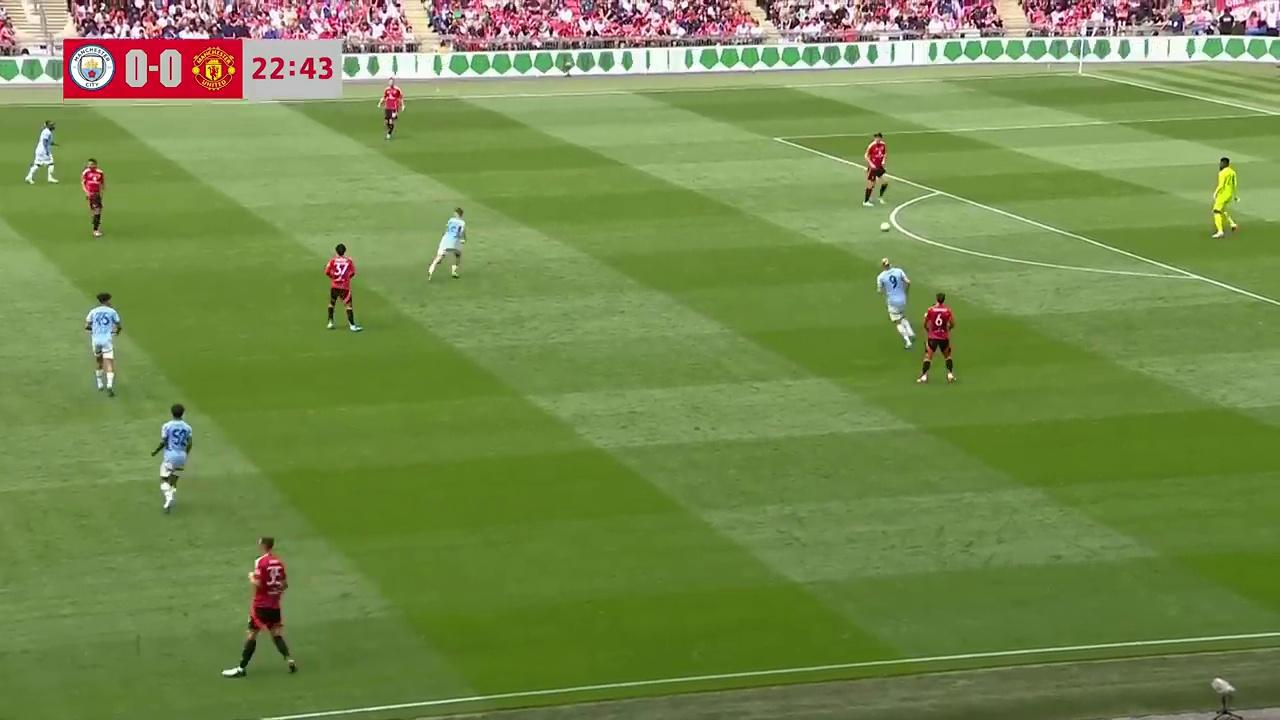ball: (878, 218, 889, 233)
player: (229, 537, 297, 677), (151, 403, 193, 513), (84, 293, 121, 396), (916, 293, 956, 384), (324, 243, 361, 332), (875, 258, 912, 344), (427, 207, 466, 281), (1211, 158, 1239, 239), (25, 120, 57, 185), (81, 157, 105, 237), (862, 132, 888, 205), (379, 81, 404, 140)
